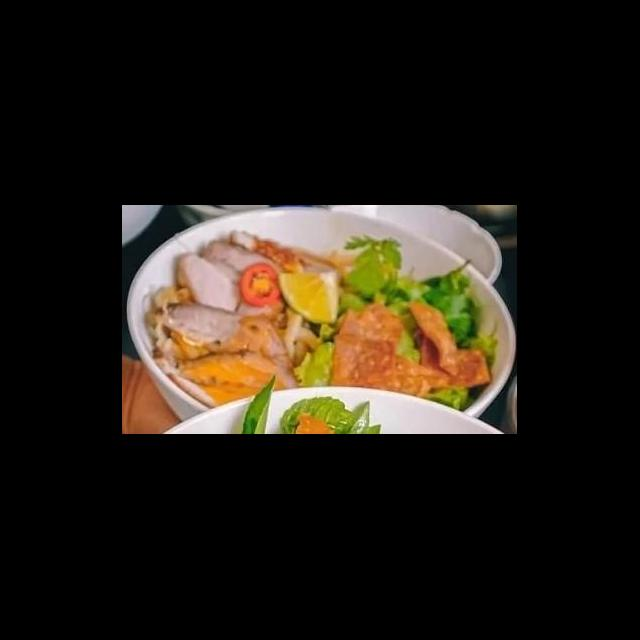banh da: (324, 298, 452, 404), (402, 296, 493, 394)
thit heo: (172, 252, 288, 324), (152, 300, 292, 358), (228, 226, 346, 284), (196, 238, 290, 292)
